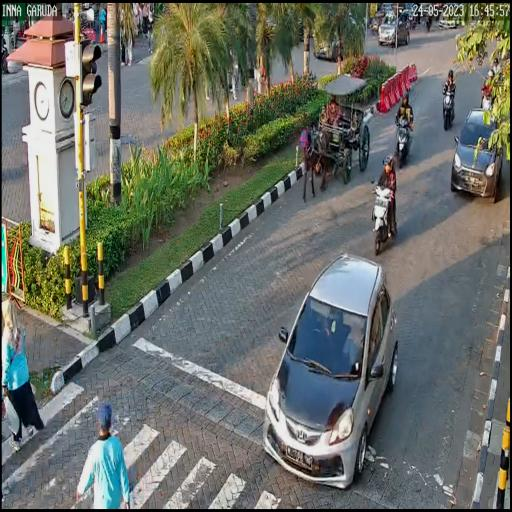mobil: (260, 247, 404, 490), (452, 102, 502, 200)
motor: (367, 176, 400, 252), (394, 110, 416, 170), (441, 84, 455, 132)
